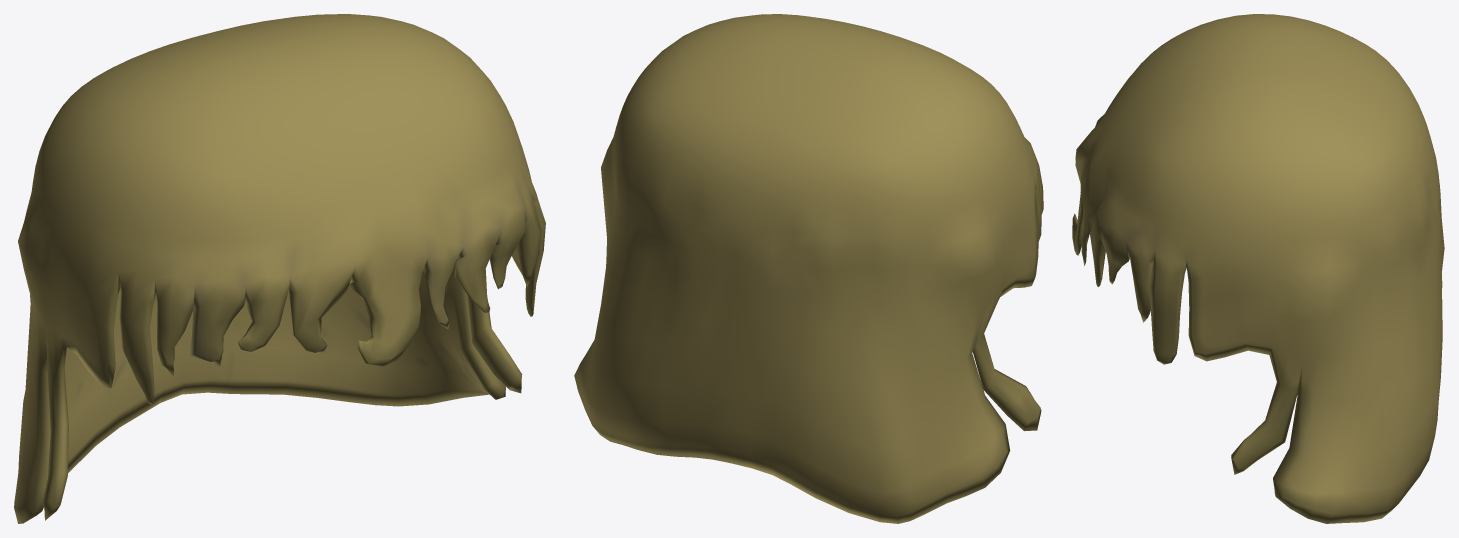
Rendered from OG_Blonde.glb.
3 views of the same model, side by side, from view 1: azimuth 30°, elevation 25°; view 2: azimuth 150°, elevation 25°; view 3: azimuth 270°, elevation 25° (orthographic). The views are drawn at different scales.
Parts seen in each view (by area): view 1: OG_Blonde; view 2: OG_Blonde; view 3: OG_Blonde.
Boxes of the visible parts, x1,y1,x2,y2 form: OG_Blonde: [14, 14, 545, 523]; OG_Blonde: [574, 14, 1043, 523]; OG_Blonde: [1072, 14, 1444, 523].
Bounding box in the file's own units: 1.07 × 0.9721 × 0.8194.
1 material, 1 textured.
